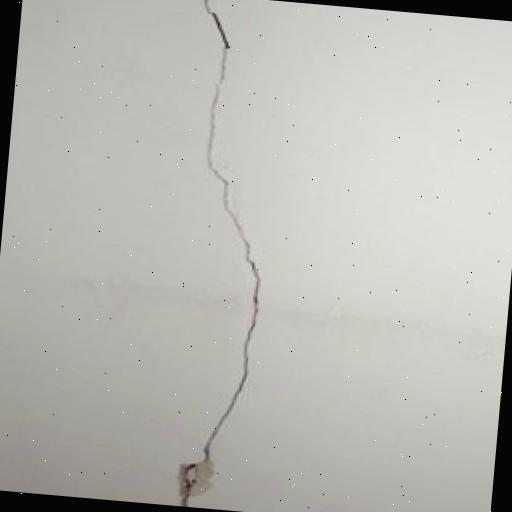spalling: (165, 0, 268, 503)
